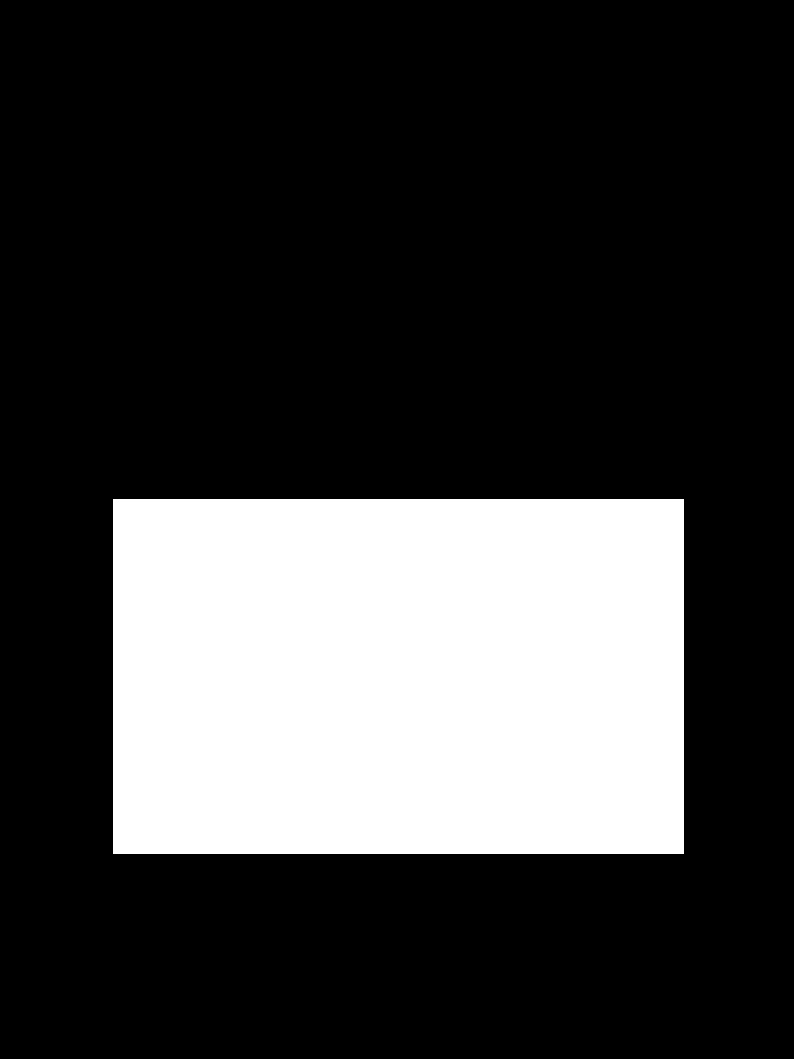table: (113, 499, 683, 853)
